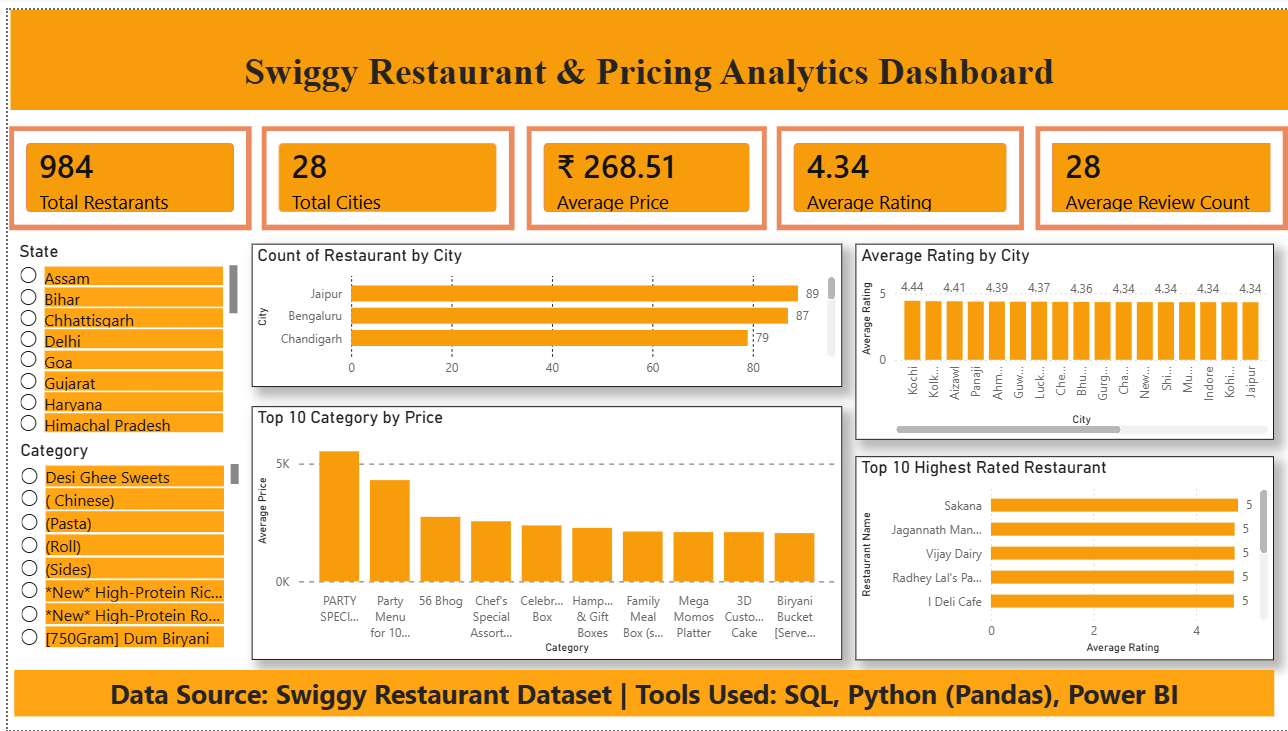

This screenshot's page, from the dashboard's own definition file:
{"tool":"powerbi","page":{"name":"Page 1","canvas":[1280,720],"ordinal":0},"visuals":[{"type":"cardVisual","fields":{"Data":["swiggy_data.total category"]},"box":[1027.5,116.2,252.5,103.8],"z":0},{"type":"cardVisual","fields":{"Data":["swiggy_data.total city"]},"box":[253.8,116.2,252.5,103.8],"z":2},{"type":"cardVisual","fields":{"Data":["swiggy_data.total restarant"]},"box":[1.2,116.2,242.5,103.8],"z":3},{"type":"cardVisual","fields":{"Data":["swiggy_data.avg price"]},"box":[518.8,116.2,240,103.8],"z":4},{"type":"cardVisual","fields":{"Data":["swiggy_data.avg rating"]},"box":[768.8,116.2,247.5,103.8],"z":5},{"type":"textbox","box":[2,0,1278,100],"z":6},{"type":"clusteredBarChart","title":"Count of Restaurant by City","fields":{"Category":["swiggy_data.City"],"Y":["Count(swiggy_data.Restaurant Name)"]},"box":[243.3,233.3,590,143.3],"z":10},{"type":"clusteredColumnChart","title":"Top 10 Category by Price","fields":{"Category":["swiggy_data.Category"],"Y":["swiggy_data.Avg Price"]},"box":[243.3,396.7,590,253.3],"z":11},{"type":"barChart","title":"Top 10 Highest Rated Restaurant ","fields":{"Category":["swiggy_data.Restaurant Name"],"Y":["swiggy_data.Avg Rating"]},"box":[847.5,446.2,418.8,203.8],"z":13},{"type":"listSlicer","fields":{"Values":["swiggy_data.State"]},"box":[6.7,231.7,228.3,198.3],"z":14},{"type":"clusteredColumnChart","title":"Average Rating by City","fields":{"Category":["swiggy_data.City"],"Y":["swiggy_data.Avg Rating"]},"box":[847.5,233.8,418.8,196.2],"z":15},{"type":"textbox","box":[6.7,660,1260,46.7],"z":16},{"type":"listSlicer","fields":{"Values":["swiggy_data.Category"]},"box":[7,430,228,220],"z":17}]}

Visuals, with their boxes in screenshot pixels (x1, y1, x2, y2), scaled from the page's 1280x720 canvas onto the 1288x731 screenshot:
cardVisual - swiggy_data.total category: bbox=(1034, 118, 1287, 223)
cardVisual - swiggy_data.total city: bbox=(255, 118, 509, 223)
cardVisual - swiggy_data.total restarant: bbox=(1, 118, 245, 223)
cardVisual - swiggy_data.avg price: bbox=(522, 118, 764, 223)
cardVisual - swiggy_data.avg rating: bbox=(774, 118, 1023, 223)
textbox: bbox=(2, 0, 1287, 102)
"Count of Restaurant by City" clusteredBarChart: bbox=(245, 237, 839, 382)
"Top 10 Category by Price" clusteredColumnChart: bbox=(245, 403, 839, 660)
"Top 10 Highest Rated Restaurant " barChart: bbox=(853, 453, 1274, 660)
listSlicer - swiggy_data.State: bbox=(7, 235, 236, 437)
"Average Rating by City" clusteredColumnChart: bbox=(853, 237, 1274, 437)
textbox: bbox=(7, 670, 1275, 717)
listSlicer - swiggy_data.Category: bbox=(7, 437, 236, 660)
